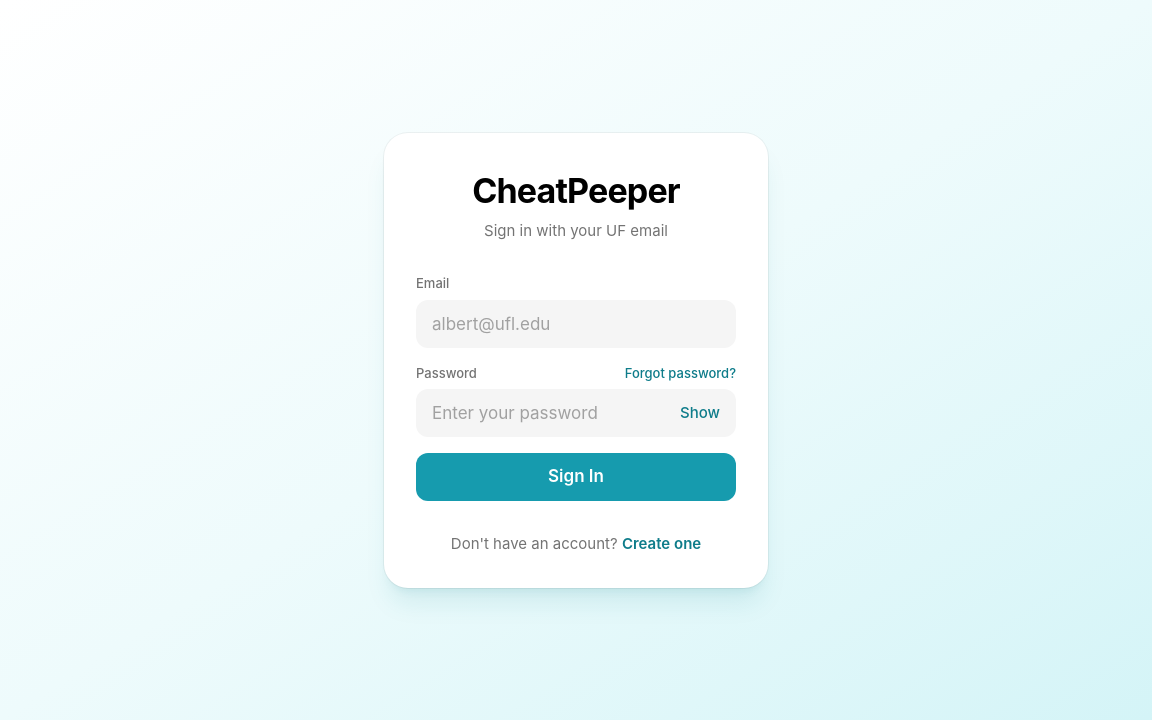
Test case: LoginPage › rejects emails that are not @ufl.edu without contacting the backend
The width and height of the screenshot is (1152, 720).
Type "albert@gmail.com" into the field labelled "Email" at x=576, y=324, box left=416, top=300, right=736, bottom=348
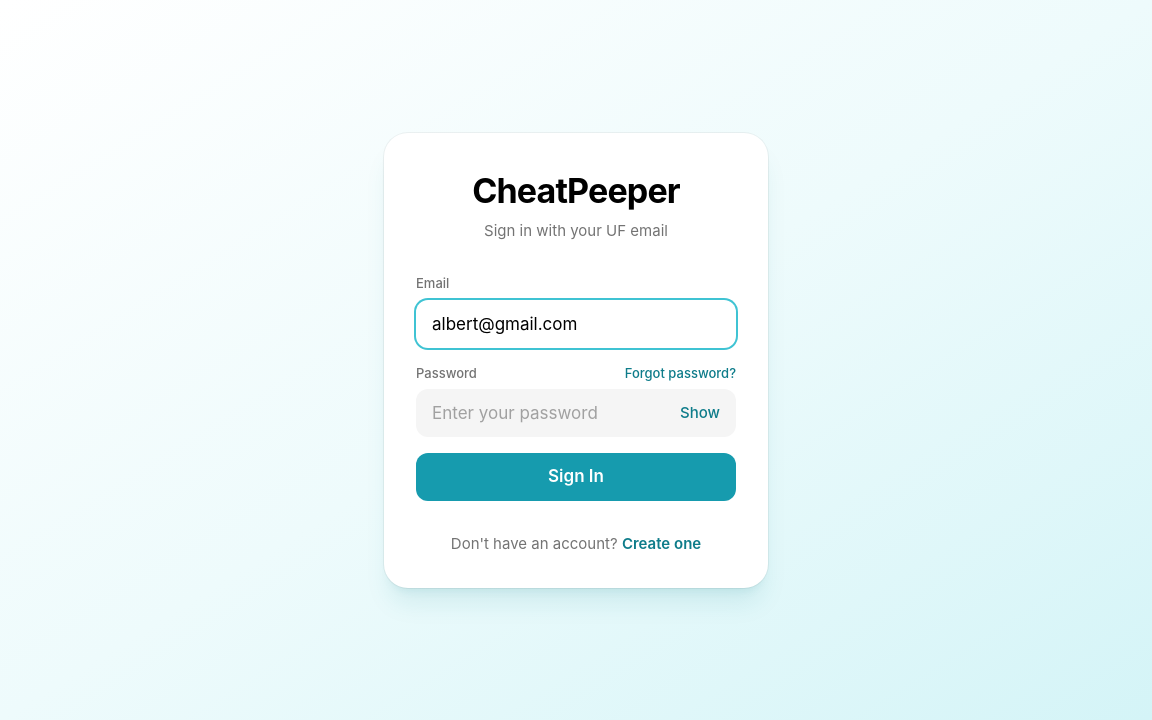
Type "password123" into the password field labelled "Password" at x=576, y=413, box left=416, top=389, right=736, bottom=437
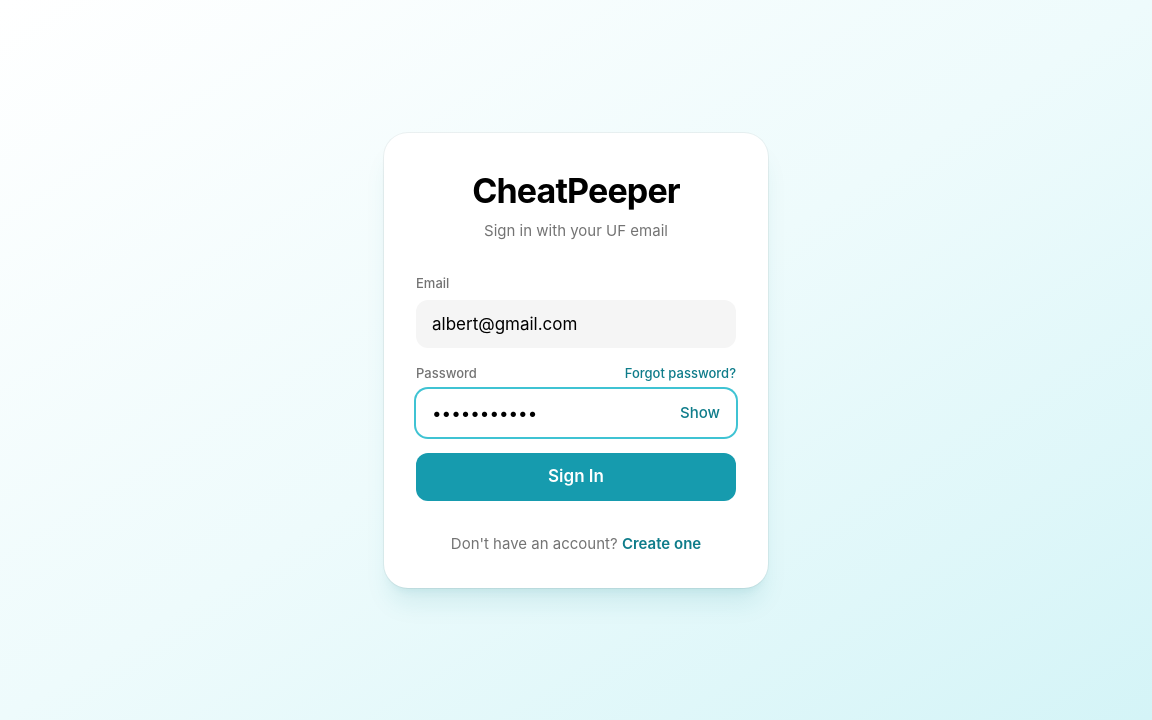
Click the button "Sign In" at x=576, y=477, box left=416, top=453, right=736, bottom=501
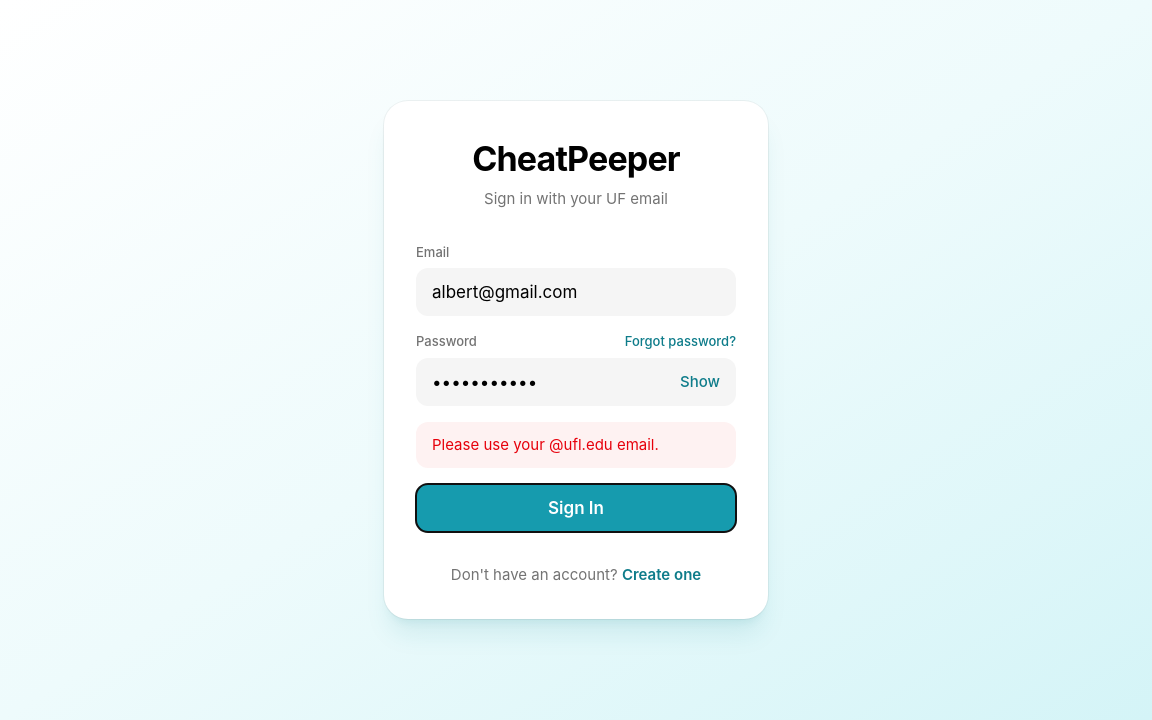
Expected: the message reads "Please use your @ufl.edu email.", left=432, top=435, right=659, bottom=454
